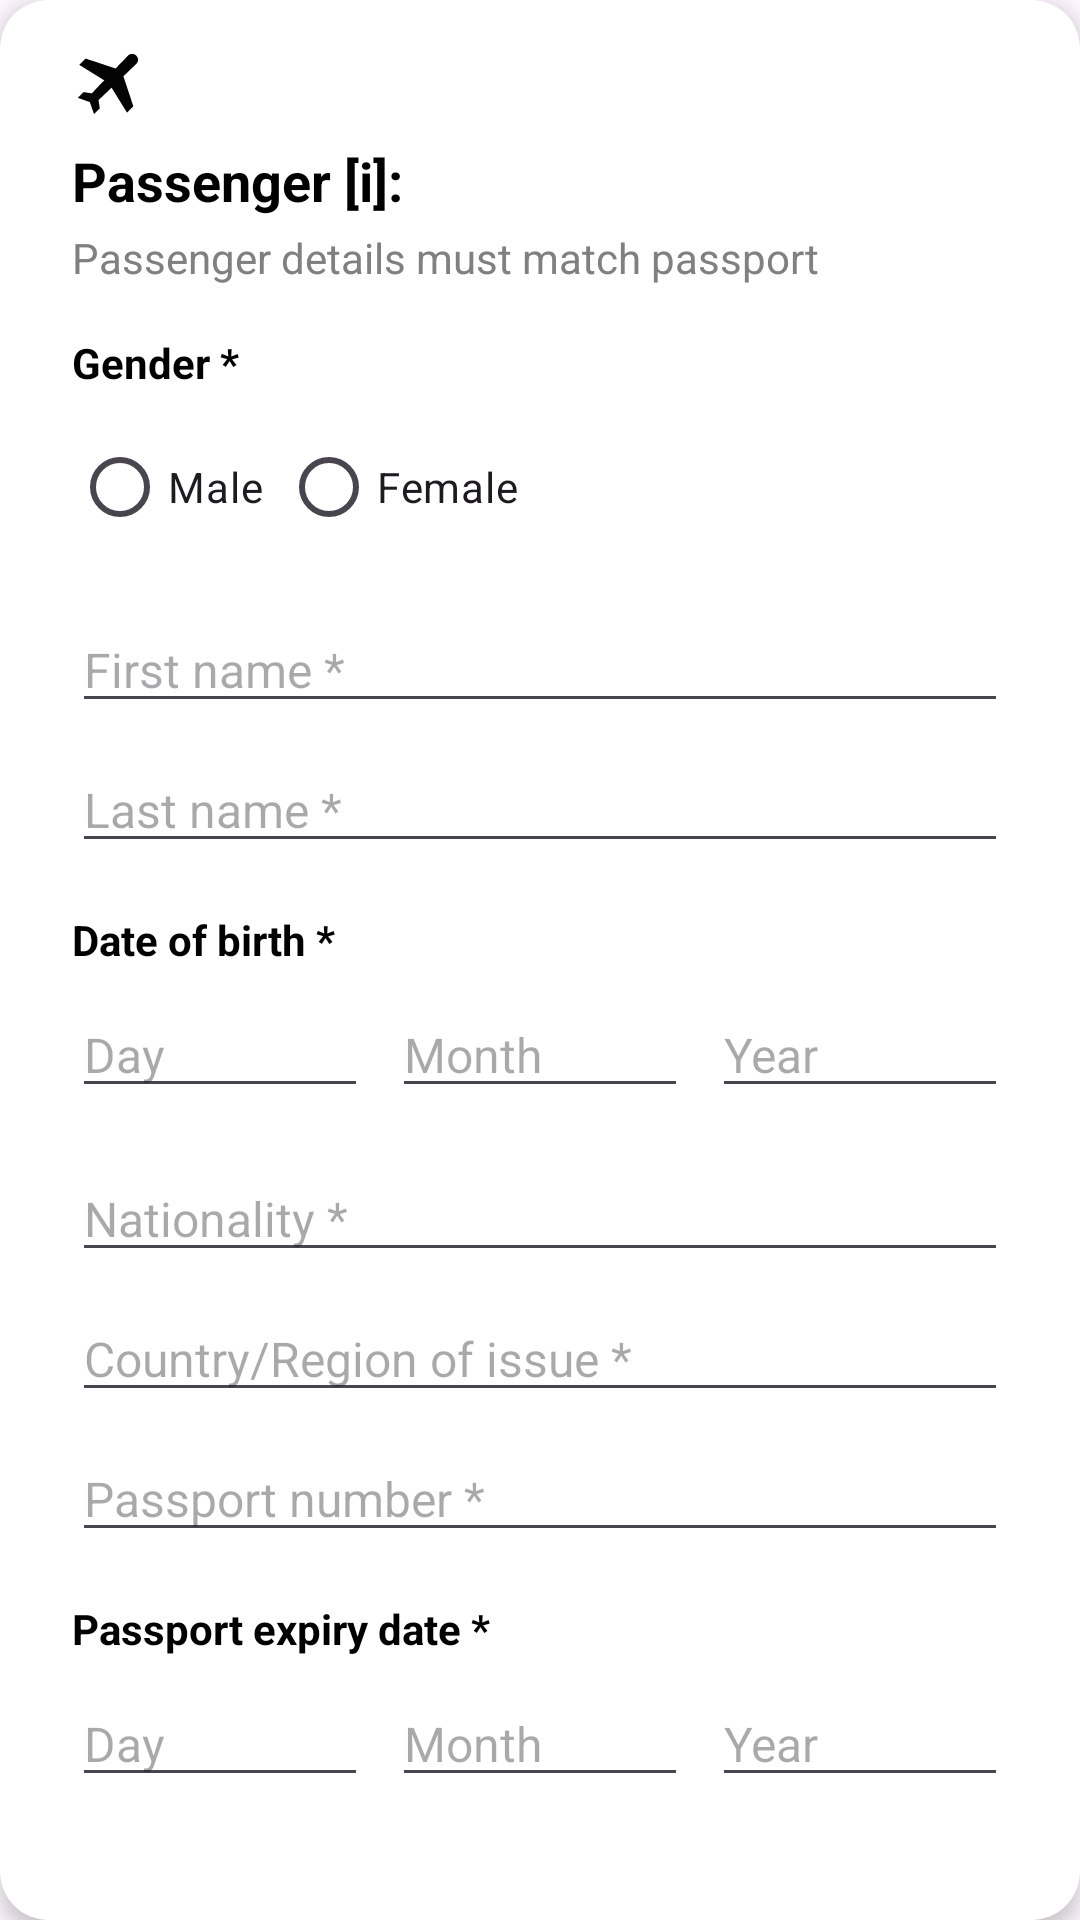

Icons on this 1080 x 1920 Android screen, each with the point to tap as (x=x, y=y):
airplane flying up: (x=108, y=84)
